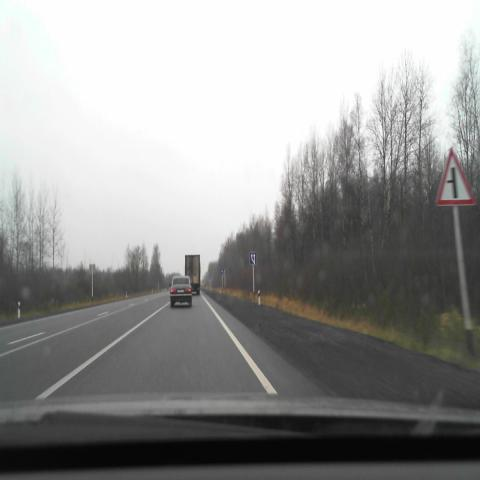2_3_3: (435, 148, 477, 207)
